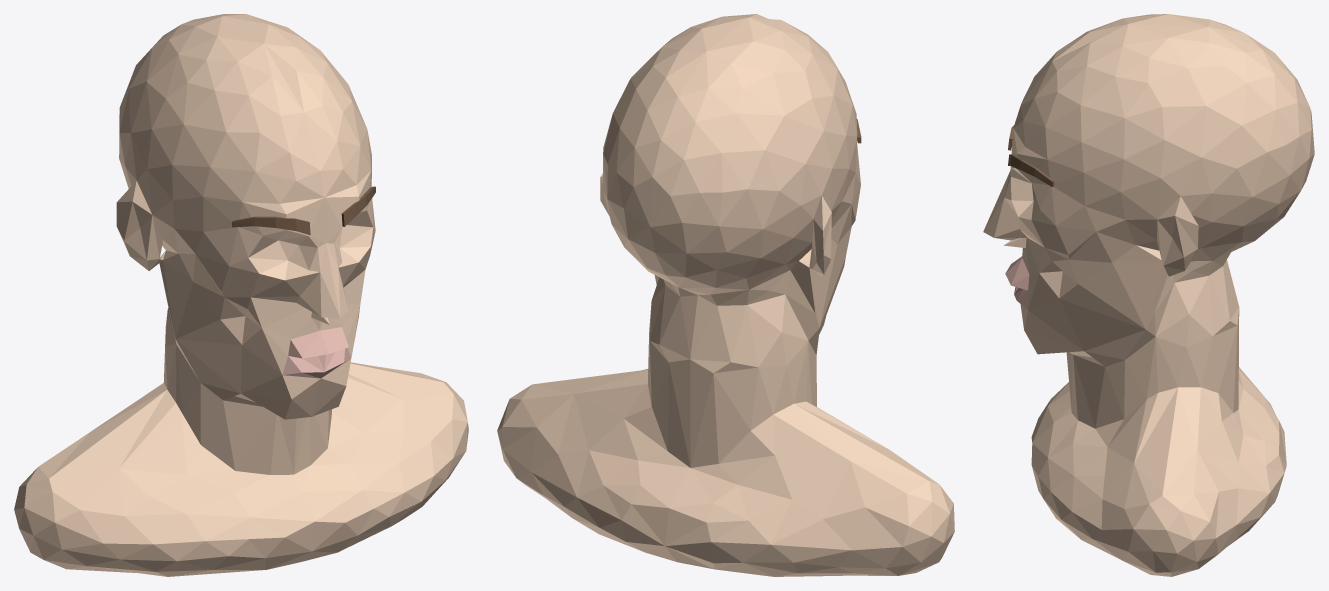
The model's file is collapse_soft.glb.
The picture shows the model from 3 angles, left to right: view 1: azimuth 30°, elevation 25°; view 2: azimuth 150°, elevation 25°; view 3: azimuth 270°, elevation 25°; orthographic projection. The views are drawn at different scales.
Parts seen in each view (by area): view 1: Head_Main, Eyebrow_R; view 2: Head_Main; view 3: Head_Main, Eyebrow_L.
Boxes of the visible parts, x1=… form: Head_Main: x1=14, y1=14, x2=468, y2=576; Eyebrow_R: x1=232, y1=216, x2=310, y2=235; Head_Main: x1=497, y1=14, x2=954, y2=576; Head_Main: x1=983, y1=14, x2=1314, y2=576; Eyebrow_L: x1=1008, y1=154, x2=1054, y2=187.
Bounding box in the file's own units: 0.32 × 0.3406 × 0.2197.
